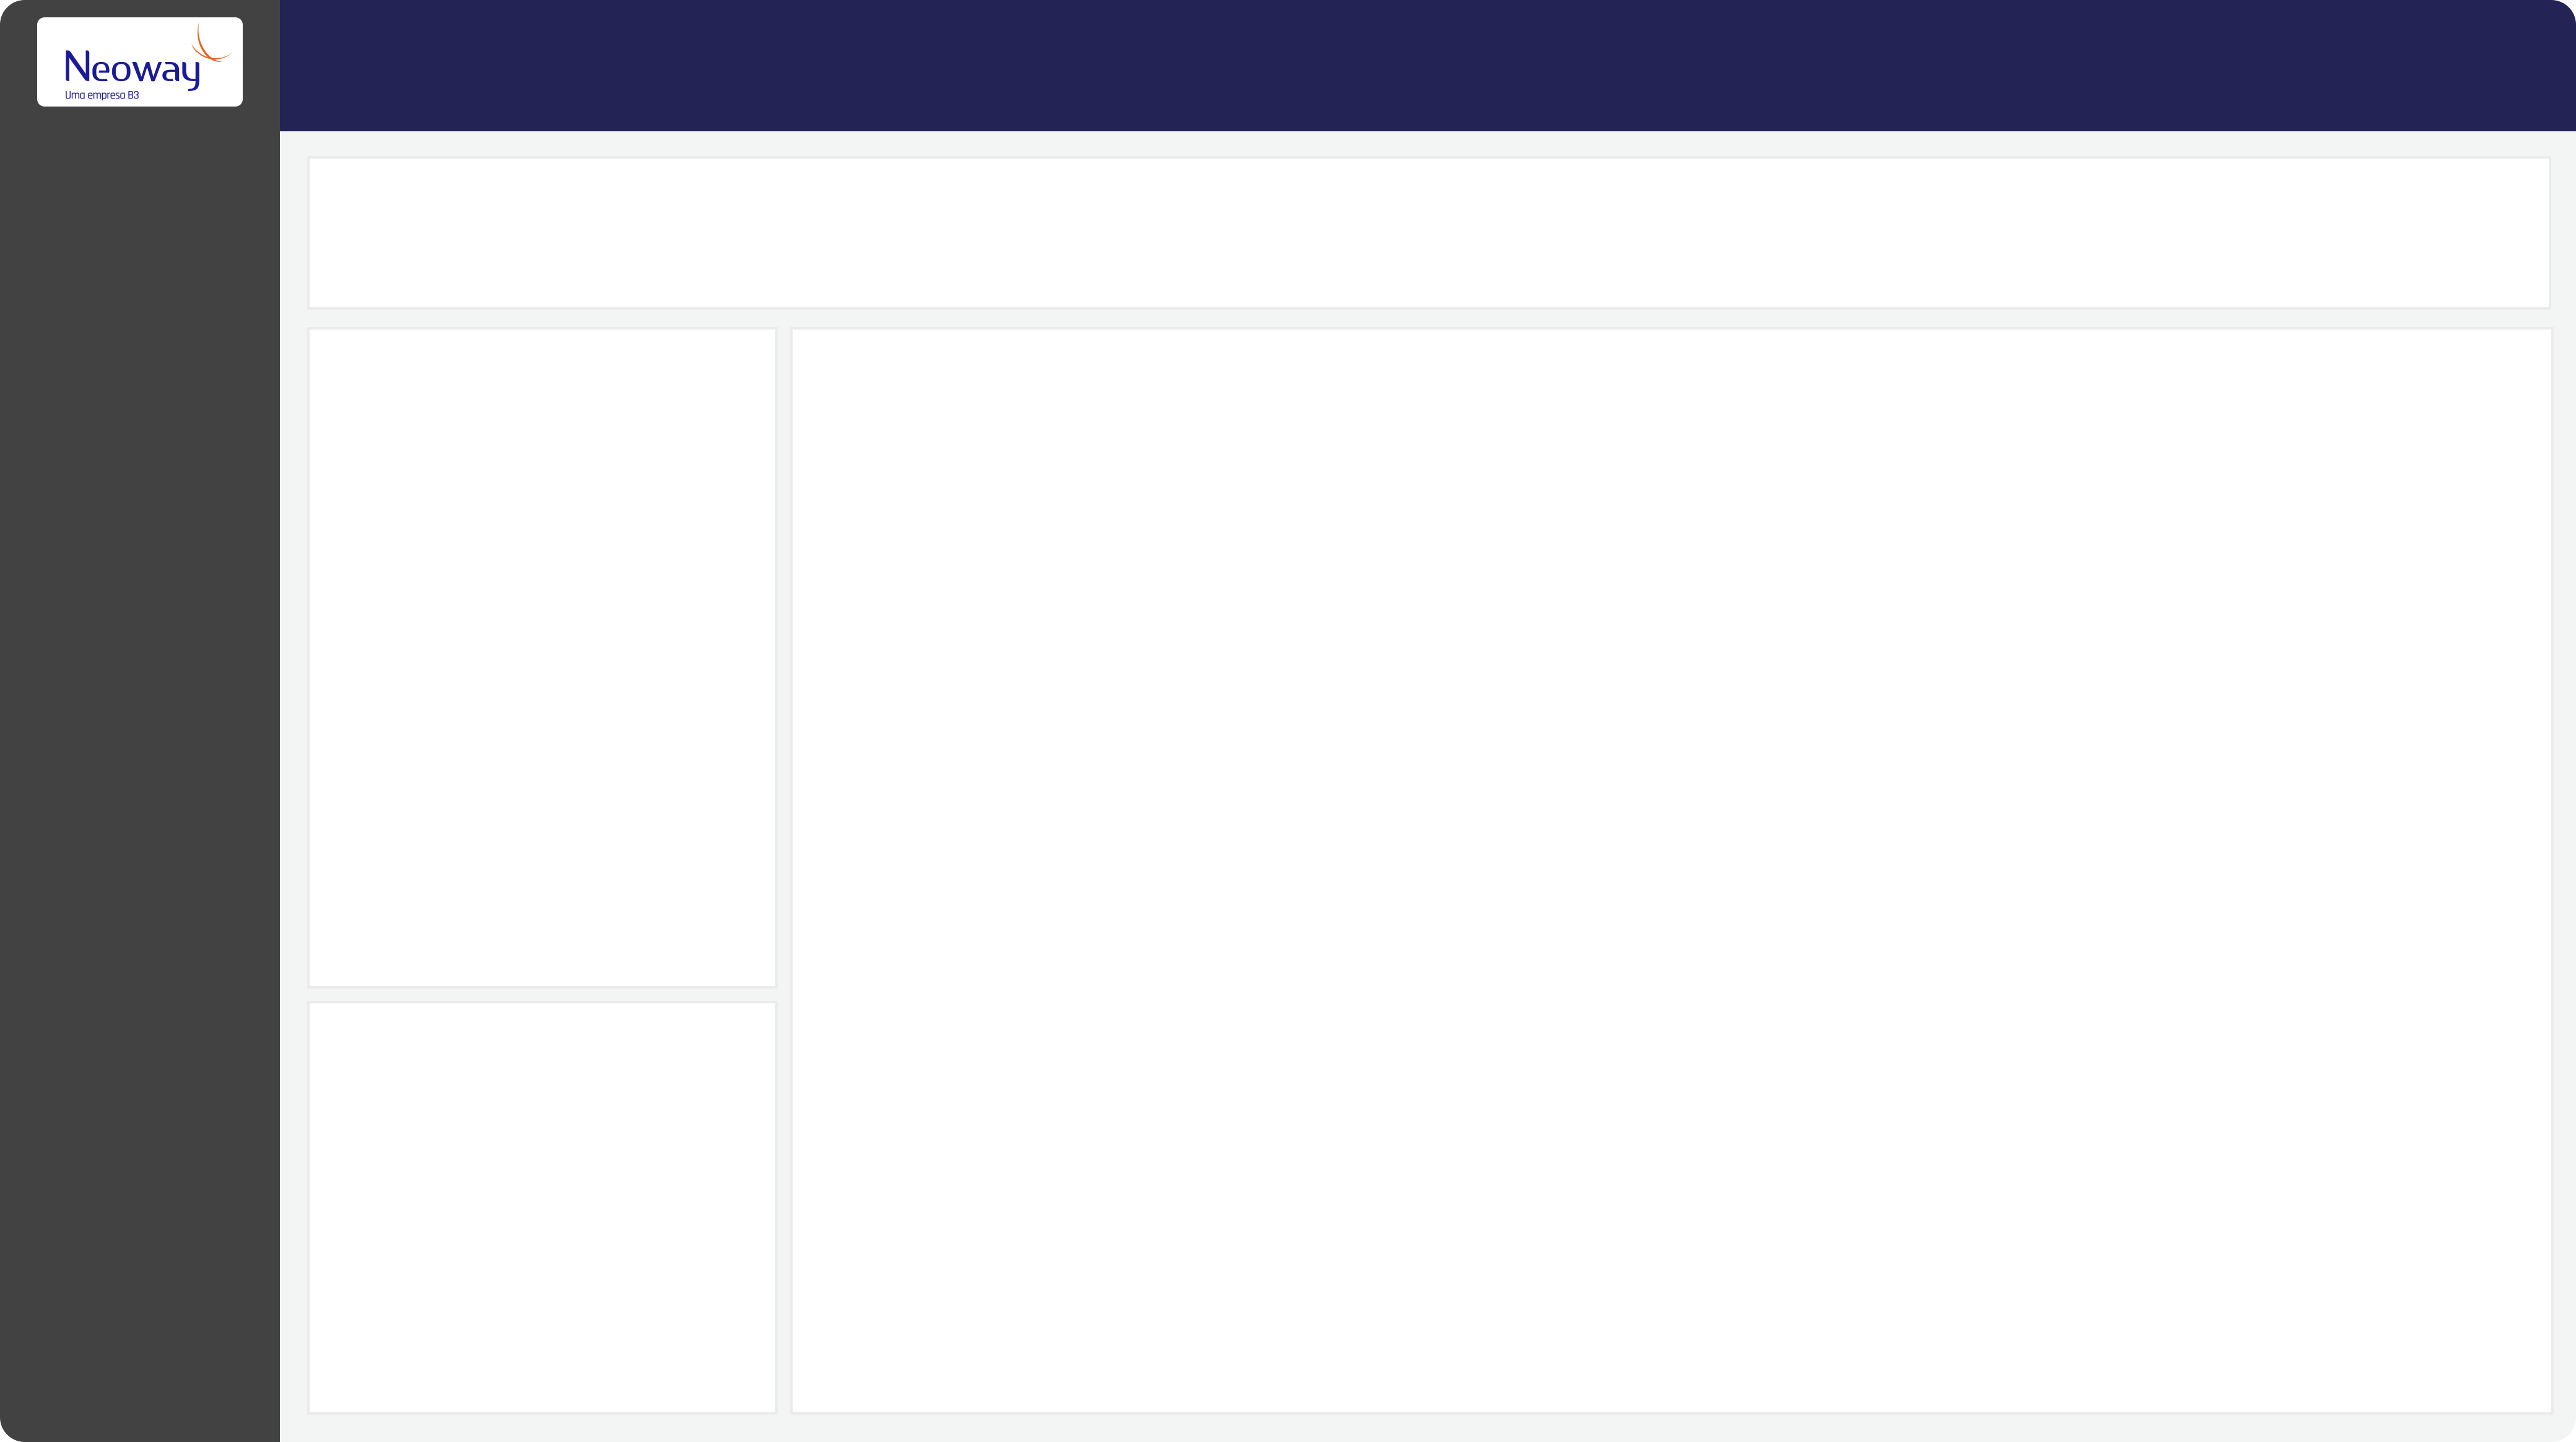

The dashboard page shown, as its layout file describes it:
{"tool":"powerbi","page":{"name":"Analítico","canvas":[1920,1080],"ordinal":3},"visuals":[{"type":"tableEx","fields":{"Values":["d_empresas.empresa_bolsa_setor_economico","d_empresas.empresa_ramo_atividade_descricao","d_empresas.empresa_bolsa_nome_empresa","f_cotacoes.cotacao_codigo_acao","d_medidas.quantidade_empresas","d_medidas.valor_acao_abertura","d_medidas.valor_acao_minimo","d_medidas.valor_acao_maximo","d_medidas.valor_acao_fechamento","d_medidas.variacao"]},"box":[613.9,273.1,1259.2,759.3],"z":0},{"type":"textbox","box":[244.3,283.2,339.5,35.1],"z":1000},{"type":"textbox","box":[243.1,259.4,340.8,35.1],"z":2000},{"type":"textbox","box":[231.8,10,784.3,53.9],"z":3000},{"type":"textbox","box":[233,52.6,784.3,37.6],"z":4000},{"type":"slicer","fields":{"Values":["p_tabela_dinamica_campos.p_tabela_dinamica_campos"]},"box":[248.1,319.5,310.7,409.7],"z":5000},{"type":"slicer","fields":{"Values":["p_tabela_dinamica_valores.p_tabela_dinamica_valores"]},"box":[240.3,826.9,274.4,219.3],"z":6000},{"type":"textbox","box":[242.8,783.1,339.5,35.1],"z":7000},{"type":"textbox","box":[241.5,759.2,340.8,35.1],"z":8000},{"type":"slicer","fields":{"Values":["d_calendario.Ano","o_ordem_mes.Mês"]},"box":[250.6,139.3,200.5,76.4],"z":9000},{"type":"slicer","fields":{"Values":["d_empresas.empresa_bolsa_nome_empresa"]},"box":[444.4,138.9,227.6,77.2],"z":10000},{"type":"slicer","fields":{"Values":["d_empresas.empresa_regiao"]},"box":[1414.5,139.3,221.8,76.4],"z":11000},{"type":"slicer","fields":{"Values":["d_empresas.empresa_uf"]},"box":[1636.3,139.9,231.8,75.2],"z":12000},{"type":"slicer","fields":{"Values":["d_empresas.empresa_cnae"]},"box":[1106.3,139.9,308.2,75.2],"z":13000},{"type":"slicer","fields":{"Values":["f_cotacoes.cotacao_codigo_acao"]},"box":[666.5,138.9,189,77.2],"z":14000},{"type":"slicer","fields":{"Values":["d_empresas.empresa_ramo_atividade_descricao"]},"box":[853.2,139.9,258.1,75.2],"z":15000},{"type":"pageNavigator","box":[1.3,157.9,208,192.9],"z":16000}]}

Visuals, with their boxes on the page's 1920x1080 design canvas (x1, y1, x2, y2). These are canvas units, not pixel positions in the 2576x1442 screenshot, which may show the page scaled, cropped or inside an application window:
tableEx - d_empresas.empresa_bolsa_setor_economico x d_empresas.empresa_ramo_atividade_descricao: 614 273 1873 1032
textbox: 244 283 584 318
textbox: 243 259 584 294
textbox: 232 10 1016 64
textbox: 233 53 1017 90
slicer - p_tabela_dinamica_campos.p_tabela_dinamica_campos: 248 320 559 729
slicer - p_tabela_dinamica_valores.p_tabela_dinamica_valores: 240 827 515 1046
textbox: 243 783 582 818
textbox: 242 759 582 794
slicer - d_calendario.Ano x o_ordem_mes.Mês: 251 139 451 216
slicer - d_empresas.empresa_bolsa_nome_empresa: 444 139 672 216
slicer - d_empresas.empresa_regiao: 1414 139 1636 216
slicer - d_empresas.empresa_uf: 1636 140 1868 215
slicer - d_empresas.empresa_cnae: 1106 140 1414 215
slicer - f_cotacoes.cotacao_codigo_acao: 666 139 856 216
slicer - d_empresas.empresa_ramo_atividade_descricao: 853 140 1111 215
pageNavigator: 1 158 209 351
